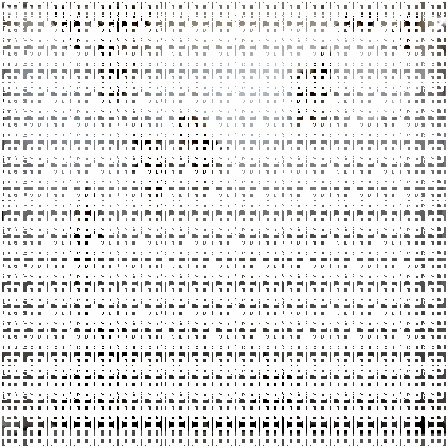bee: (161, 87, 238, 197), (280, 39, 354, 139), (53, 171, 115, 287), (114, 110, 178, 217), (69, 288, 137, 378), (81, 19, 144, 104), (245, 343, 315, 416), (36, 1, 89, 57), (93, 2, 170, 38)
